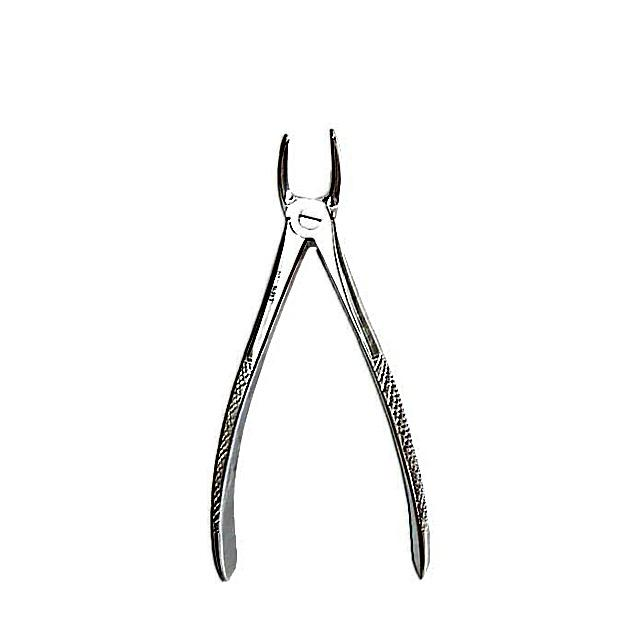forceps: (210, 130, 428, 585)
